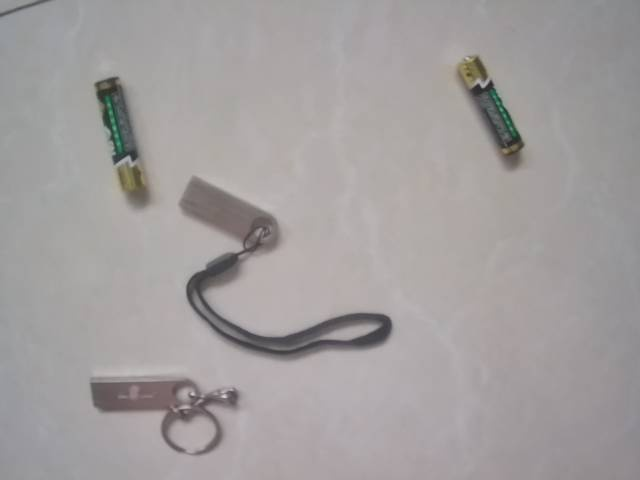U-disk: (171, 167, 287, 314), (81, 370, 254, 460)
battery: (446, 49, 535, 163), (83, 75, 158, 202)
